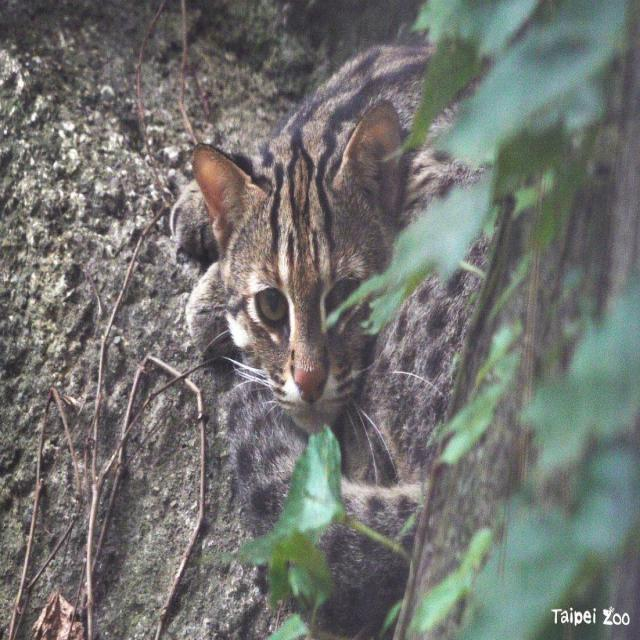leopard: (186, 94, 470, 410)
